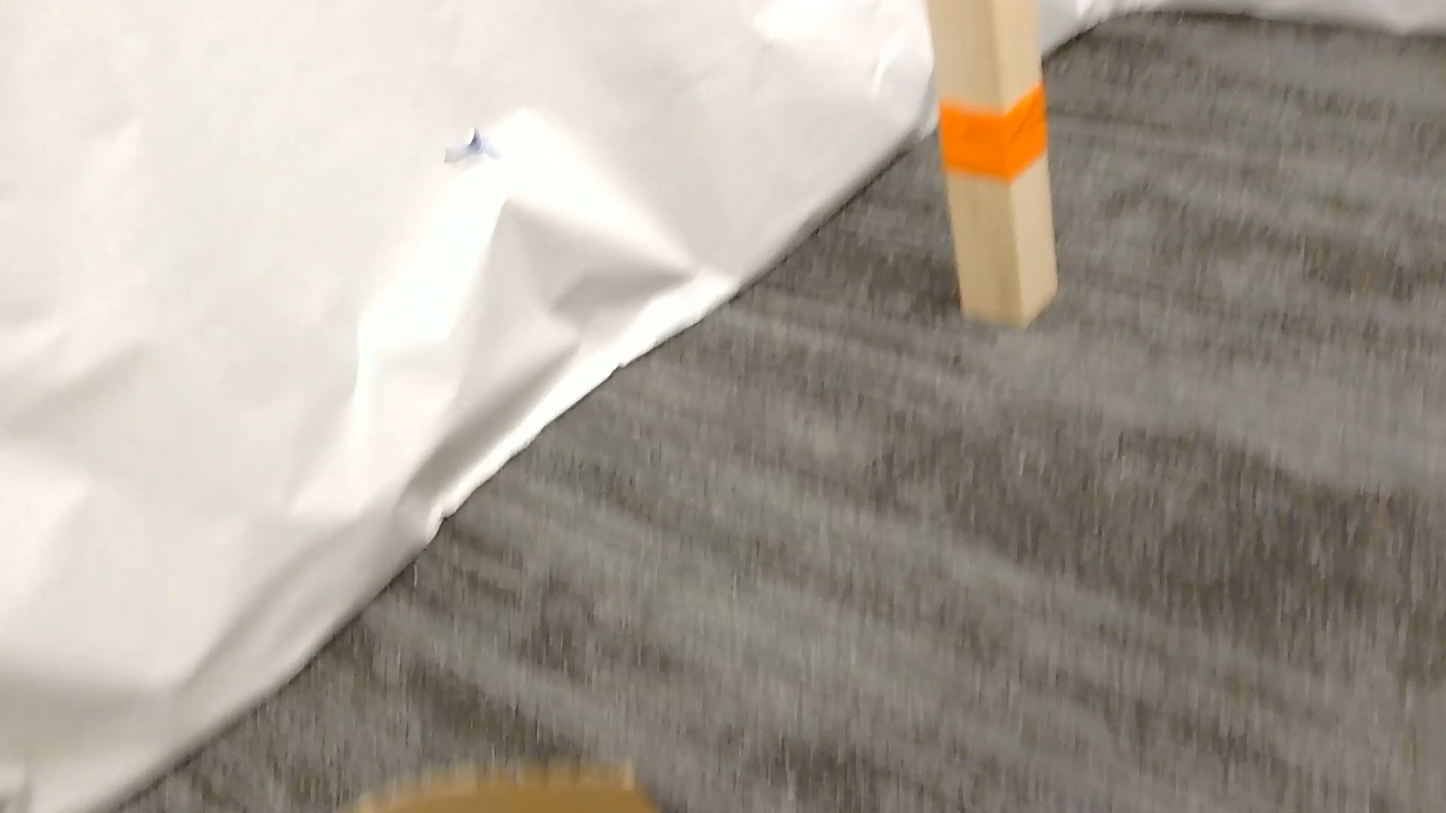Ramp: (344, 764, 657, 812)
Wooden Block: (926, 0, 1057, 327)
